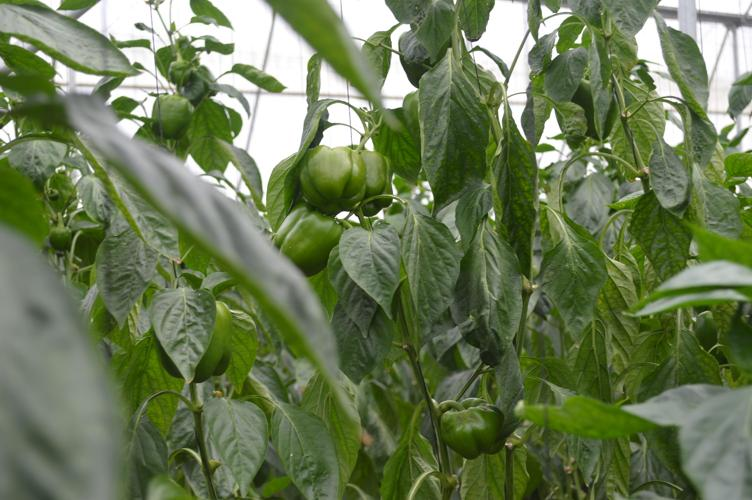BellPepper: (140, 82, 207, 170), (295, 145, 375, 217), (157, 311, 236, 382), (433, 393, 509, 461), (261, 209, 332, 269)
